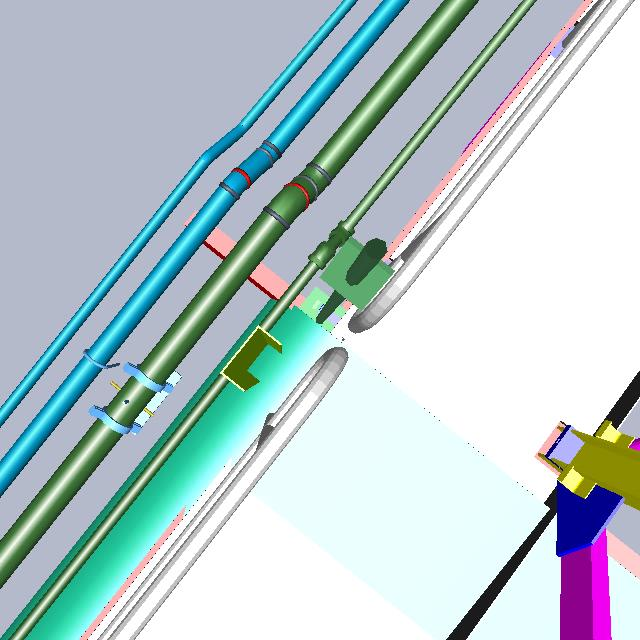Poste: (305, 240, 402, 332)
Soporte: (218, 315, 319, 400)
